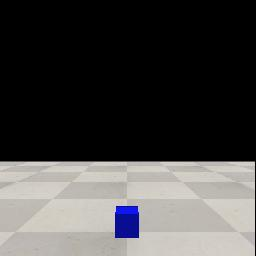box: (115, 206, 139, 238)
